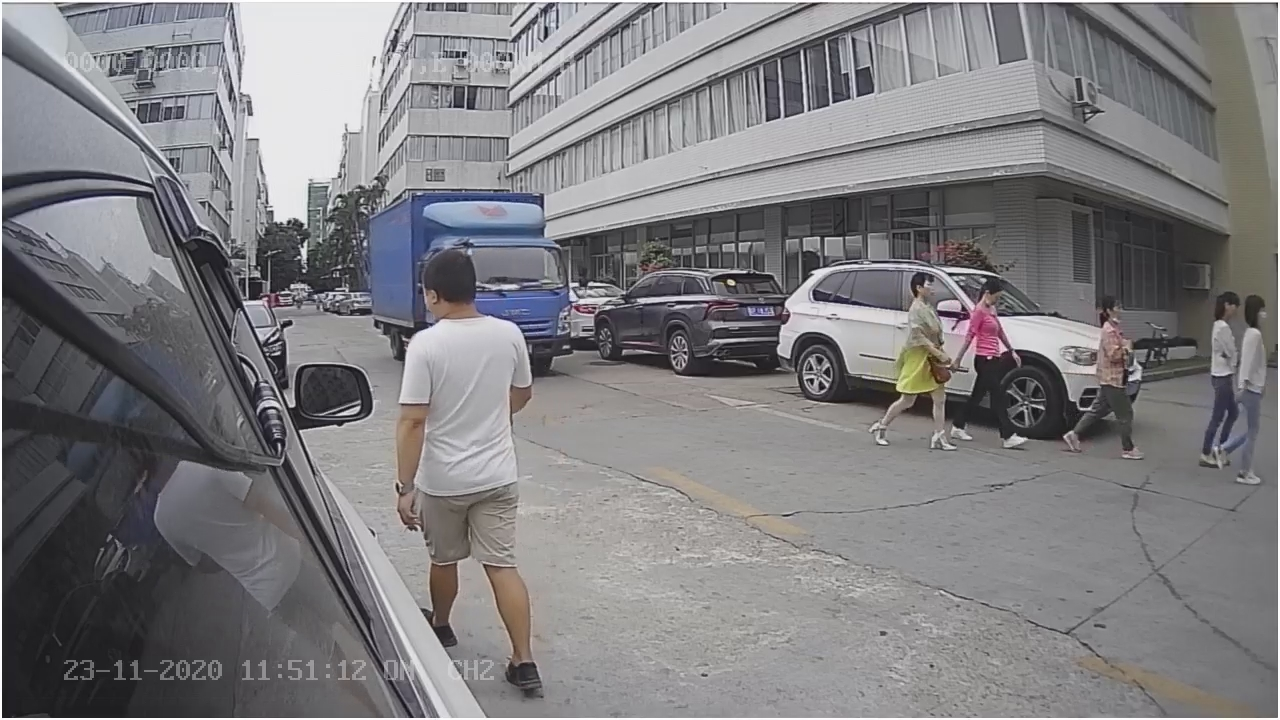person: (380, 250, 540, 475), (865, 262, 964, 452), (1059, 287, 1146, 462)
